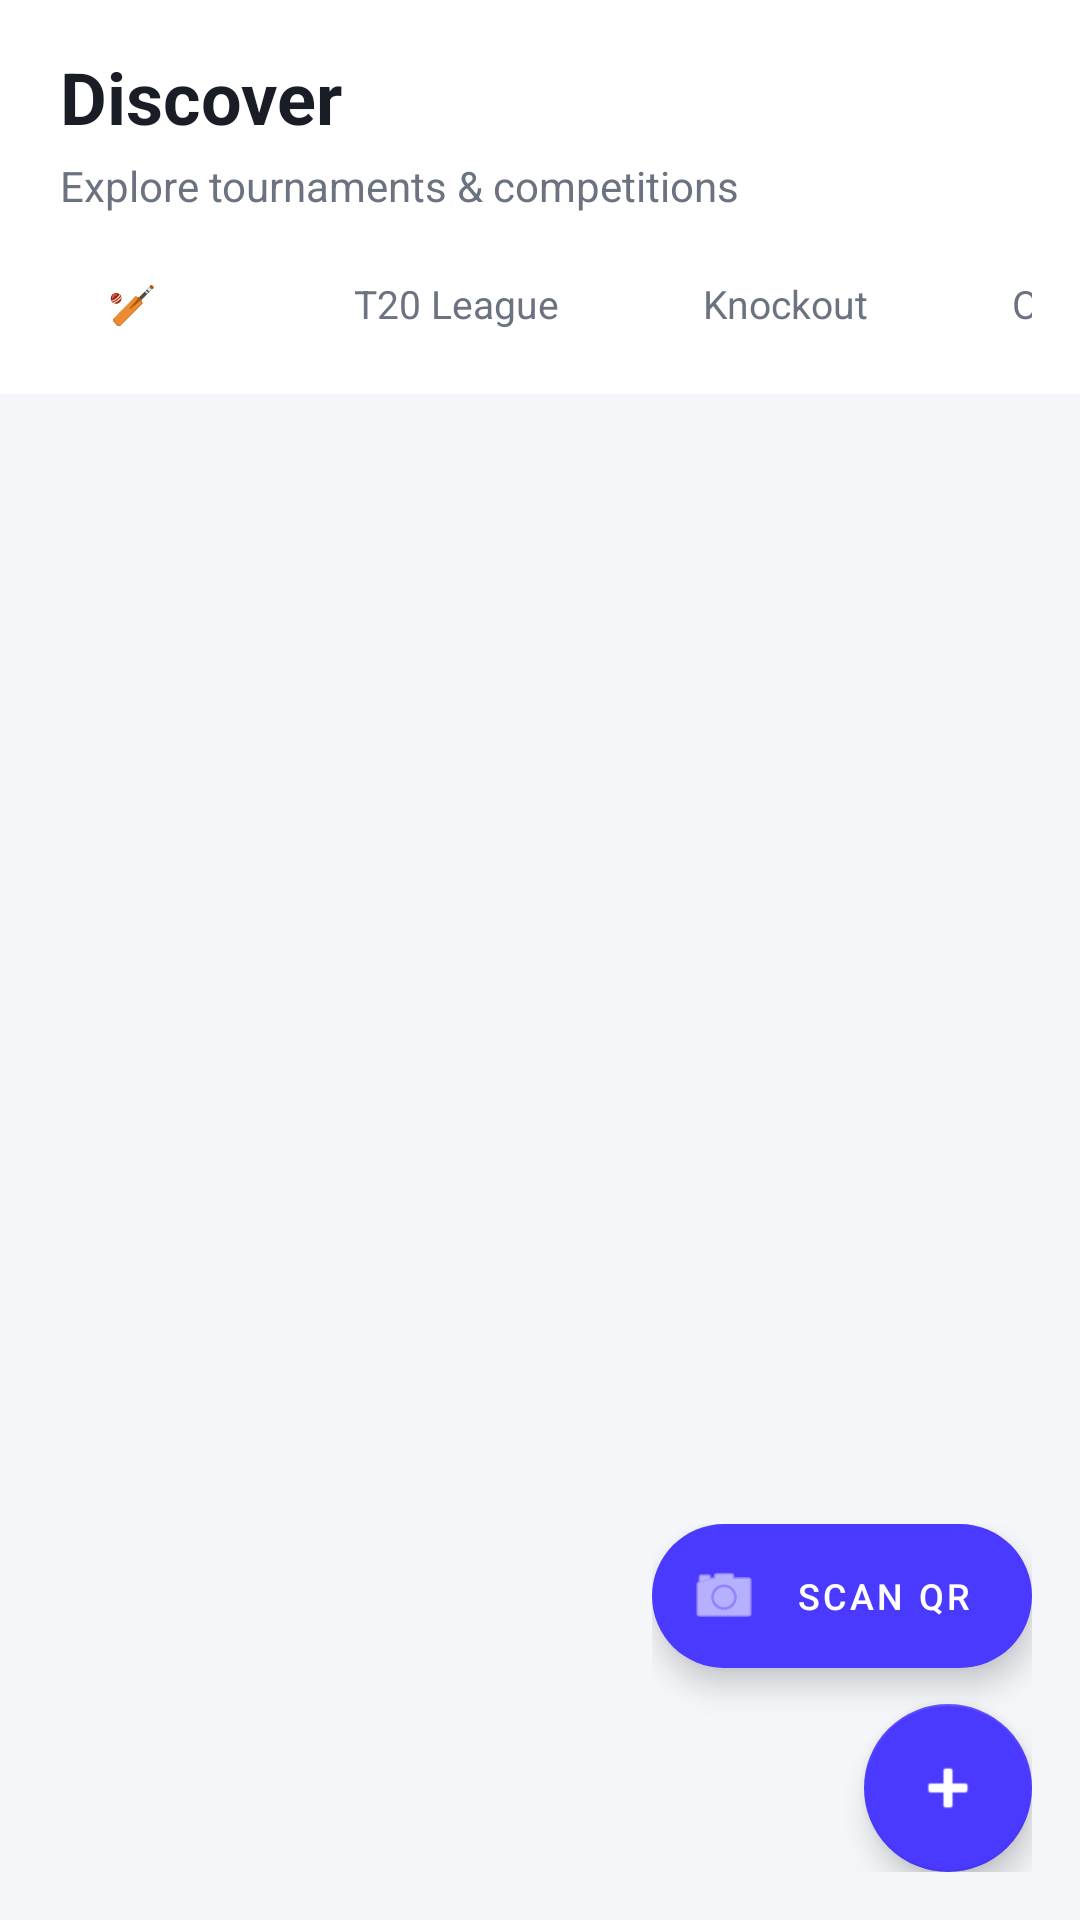

Icons on this 1080px x 1920px Android screen, each with its box as (x1, y1, x2, y2):
Organize Tournament: (864, 1704, 1032, 1872)
